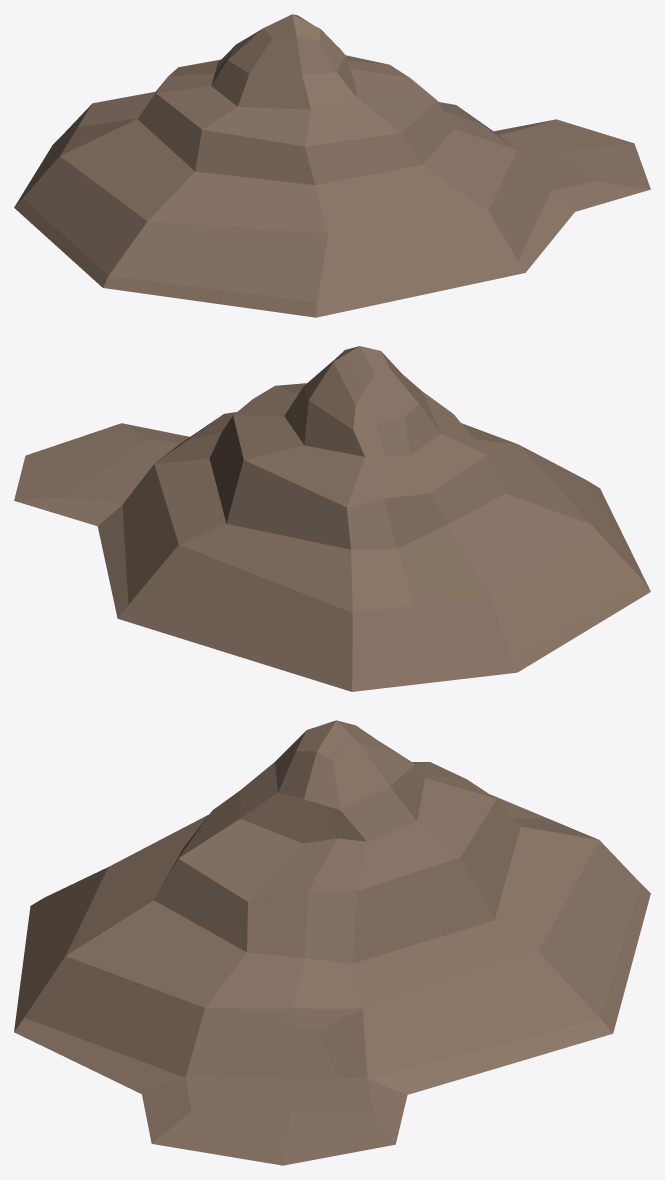
File: Mountain.fbx
The picture shows the model from 3 angles, top to bottom: view 1: azimuth 30°, elevation 25°; view 2: azimuth 150°, elevation 25°; view 3: azimuth 270°, elevation 25°; orthographic projection. The views are drawn at different scales.
Visible parts, largest first — view 1: polySurface6; view 2: polySurface6; view 3: polySurface6.
Part boxes in pixels (box(x1,y1,x2,y2)): polySurface6: box(14, 14, 650, 317); polySurface6: box(14, 346, 650, 691); polySurface6: box(14, 720, 650, 1165).
Bounding box in the file's own units: 574 × 193 × 454.
